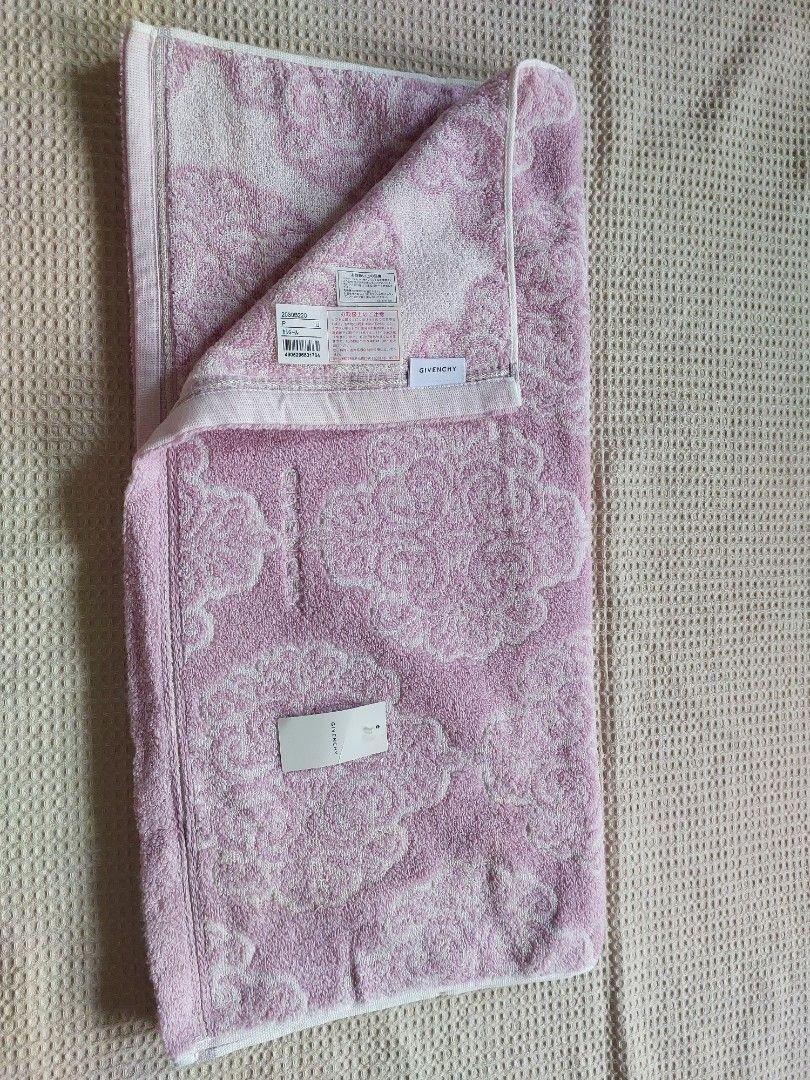Towel: (88, 40, 630, 1038)
